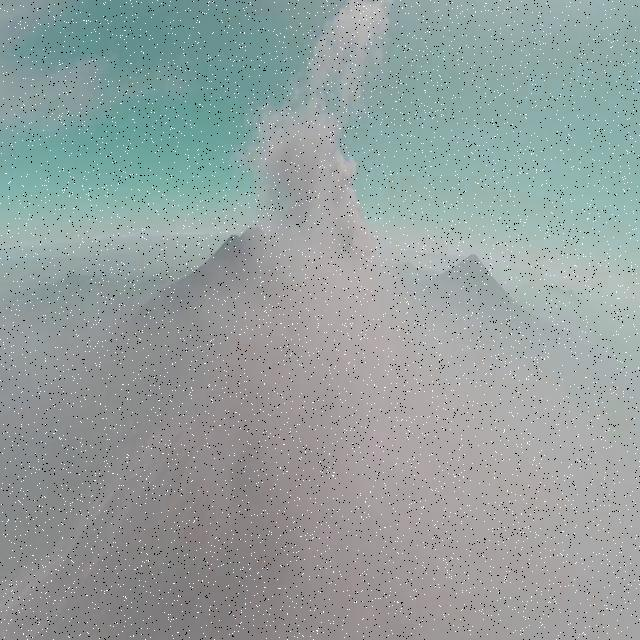Plume: (234, 280, 640, 640), (247, 0, 397, 306)
